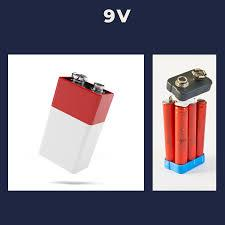9V: (35, 69, 117, 173)
